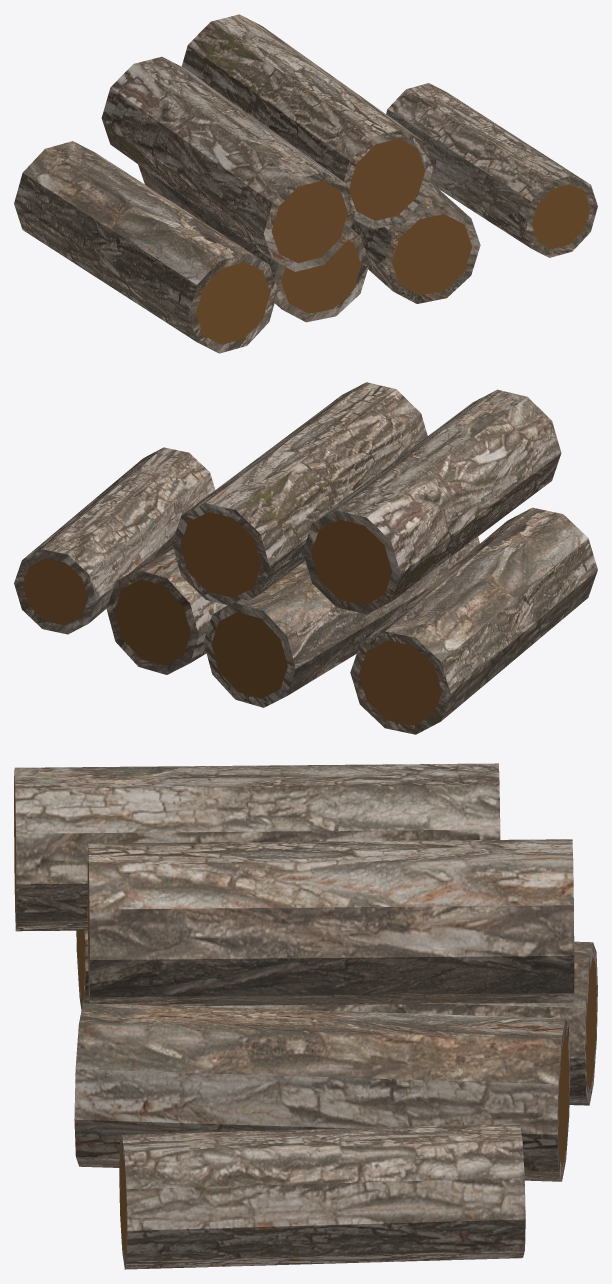
File: Leña.fbx
3 views of the same model, one above another, from view 1: azimuth 30°, elevation 25°; view 2: azimuth 150°, elevation 25°; view 3: azimuth 270°, elevation 25° (orthographic). The views are drawn at different scales.
Visible parts, largest first — view 1: Mesada.003; view 2: Mesada.003; view 3: Mesada.003.
Boxes of the visible parts, <box> form: Mesada.003: <box>14,14,597,353</box>; Mesada.003: <box>14,382,597,734</box>; Mesada.003: <box>14,763,597,1269</box>.
Size of the model in its own units: 62.09 by 23.71 by 46.25.
